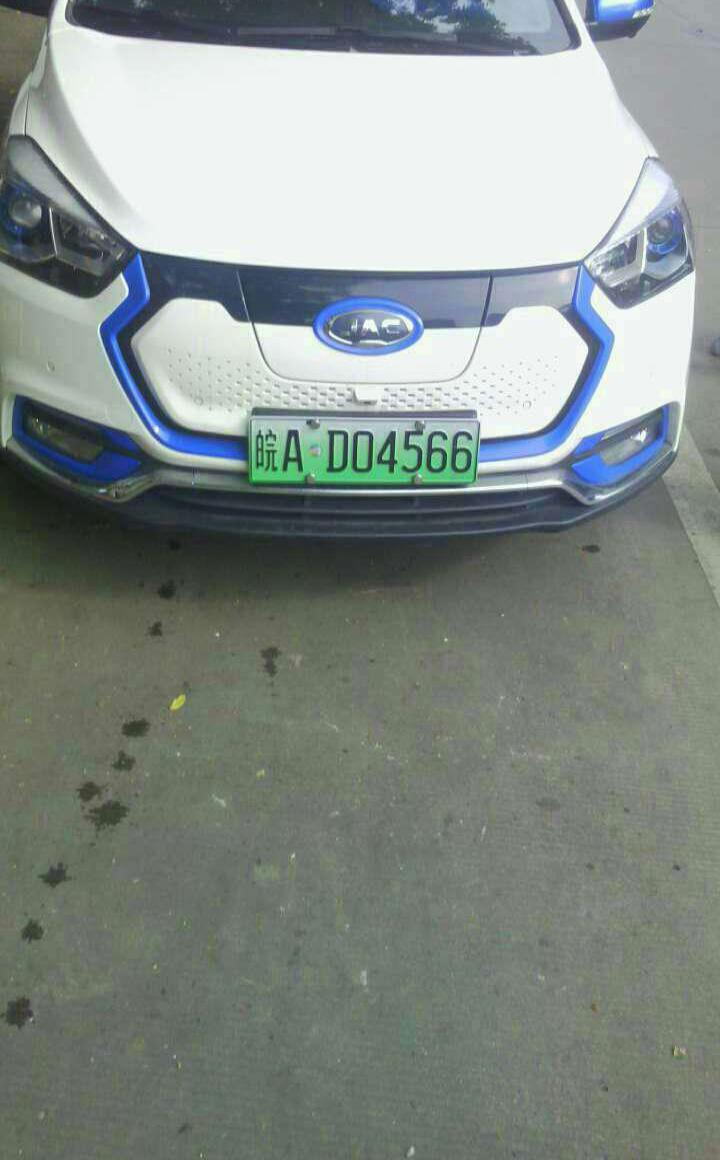car_id: (249, 415, 483, 488)
